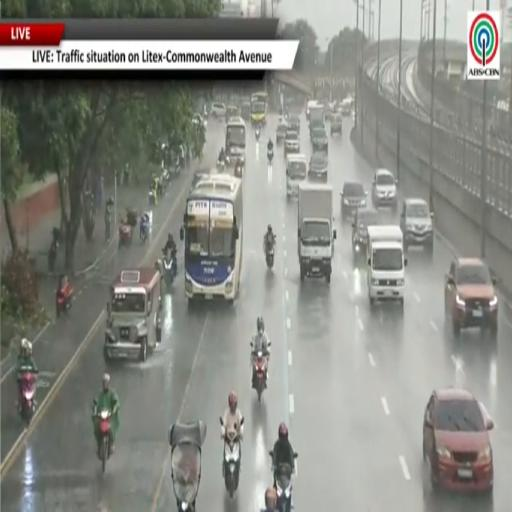bus: (180, 174, 242, 303), (225, 117, 246, 165), (251, 91, 267, 124)
car: (423, 388, 494, 492), (445, 258, 498, 338), (400, 199, 434, 254), (352, 207, 382, 259), (372, 168, 398, 211), (340, 182, 367, 219), (308, 152, 328, 182), (312, 125, 328, 152), (284, 130, 299, 156), (309, 120, 324, 140), (210, 102, 226, 120), (330, 114, 342, 136), (226, 104, 240, 122), (276, 121, 288, 142), (288, 115, 300, 133), (192, 114, 207, 127), (240, 102, 250, 121)
jeepney: (104, 268, 163, 362)
motorcycle: (170, 422, 206, 511), (269, 452, 292, 511), (223, 432, 241, 498), (18, 372, 37, 427), (252, 350, 269, 402), (98, 410, 110, 473), (56, 284, 73, 317), (48, 228, 60, 271), (162, 256, 176, 292), (119, 223, 133, 247), (105, 208, 112, 241), (265, 245, 274, 269), (140, 221, 149, 244), (234, 160, 244, 178), (149, 187, 157, 206), (267, 149, 273, 165), (217, 159, 225, 171), (255, 125, 260, 140)
truck: (298, 182, 336, 283), (367, 226, 407, 307)
